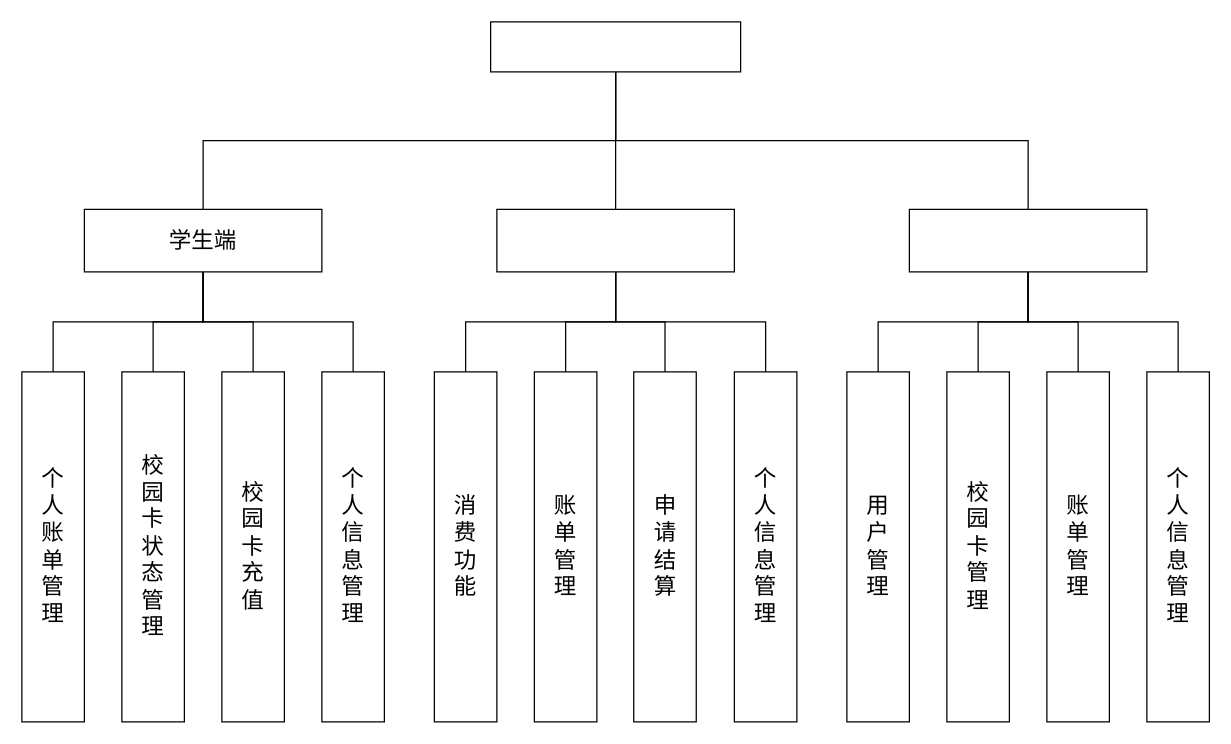
This 1231x744 diagram has some shape labels left out. The shapes that lost their labels are listed below. From the top down, each one's box as (x1, y1, x2, y2) in pixels, then its label:
(489, 21, 741, 72): 校园卡消费系统
(496, 208, 734, 272): 商家端
(908, 208, 1147, 272): 管理员端
